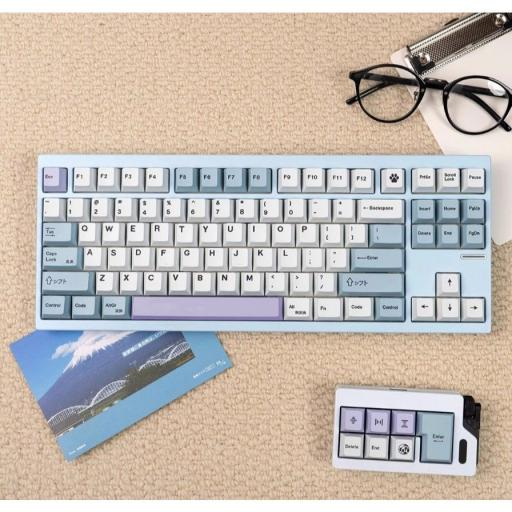keyboard: (32, 144, 500, 346)
